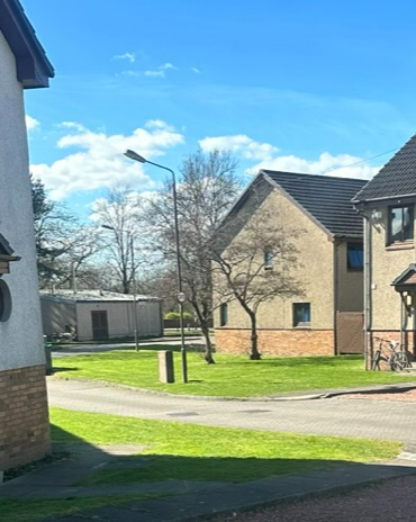tree: (156, 150, 231, 369), (216, 211, 294, 364)
